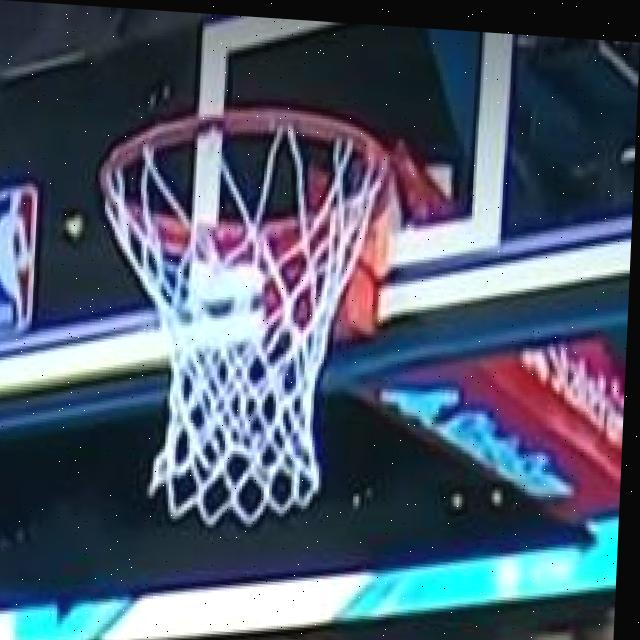hoop: (75, 128, 453, 538)
